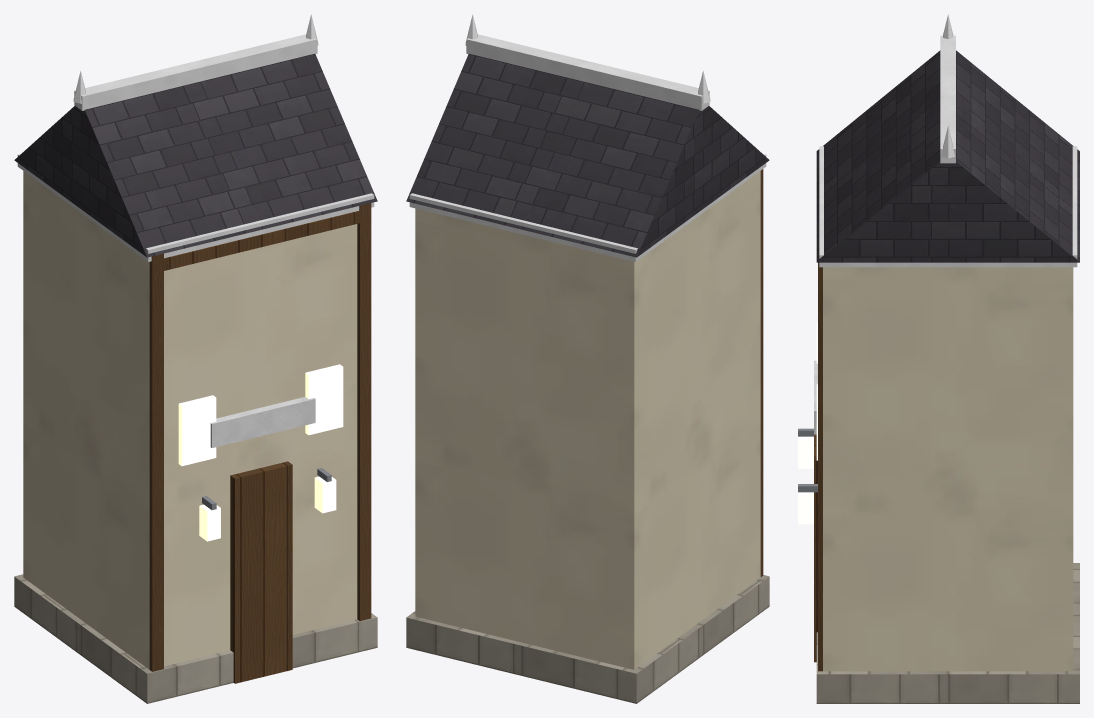
File: category.other.t5.glb
3 views of the same model, side by side, from view 1: azimuth 30°, elevation 25°; view 2: azimuth 150°, elevation 25°; view 3: azimuth 270°, elevation 25° (orthographic).
Parts seen in each view (by area): view 1: building.category.other.t5; view 2: building.category.other.t5; view 3: building.category.other.t5.
Part boxes in pixels (x1,y1,x2,y2): building.category.other.t5: (14, 14, 377, 703); building.category.other.t5: (406, 14, 769, 703); building.category.other.t5: (798, 14, 1079, 703).
Size of the model in its own units: 2.12 by 4.85 by 2.14.
8 materials, 7 textured.
